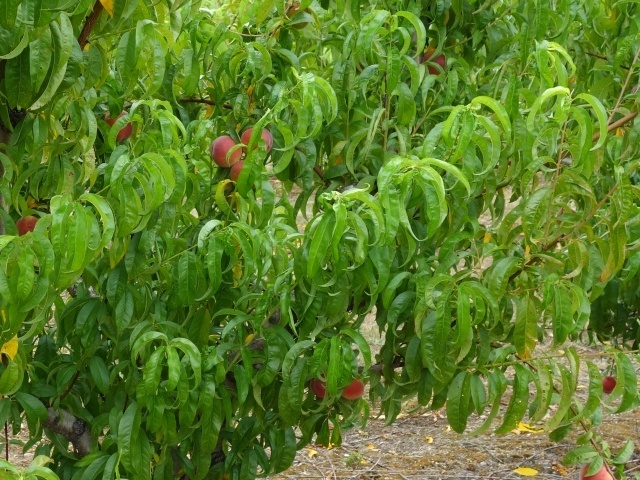peach: (236, 123, 277, 157), (205, 132, 243, 167), (103, 107, 136, 145), (304, 372, 335, 403), (339, 373, 368, 406), (420, 47, 450, 76), (11, 210, 41, 238), (227, 151, 254, 181), (580, 459, 606, 479), (598, 370, 618, 394)
